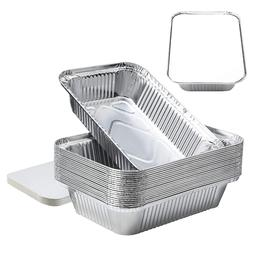metal: (53, 47, 215, 168), (151, 8, 256, 100)
